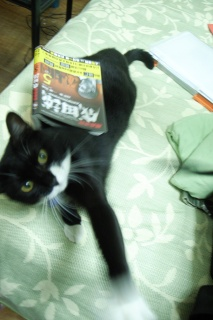Cat: (0, 45, 154, 319)
